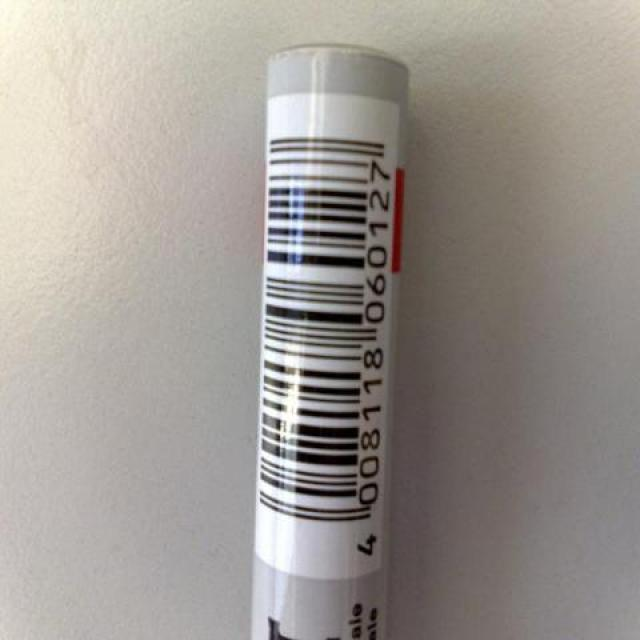Barcode: (242, 128, 401, 572)
